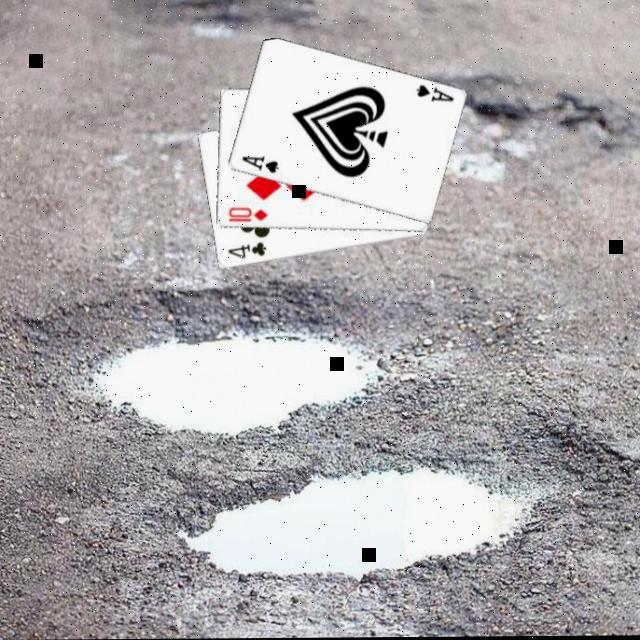10D: (224, 204, 269, 224)
4C: (223, 238, 268, 260)
AS: (412, 81, 456, 105), (237, 152, 280, 176)
